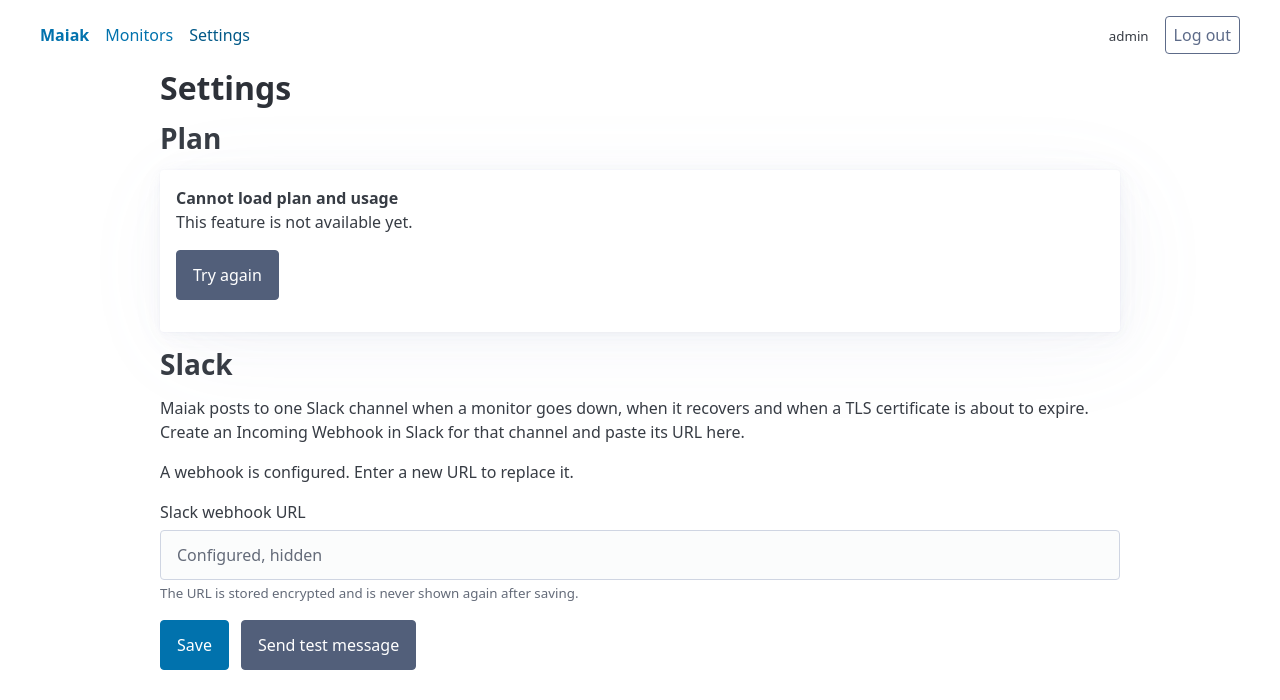
Scenario: auth guard › logs out and returns to login
Click the button "Log out".
click(1202, 35)  # box [1165, 16, 1240, 54]
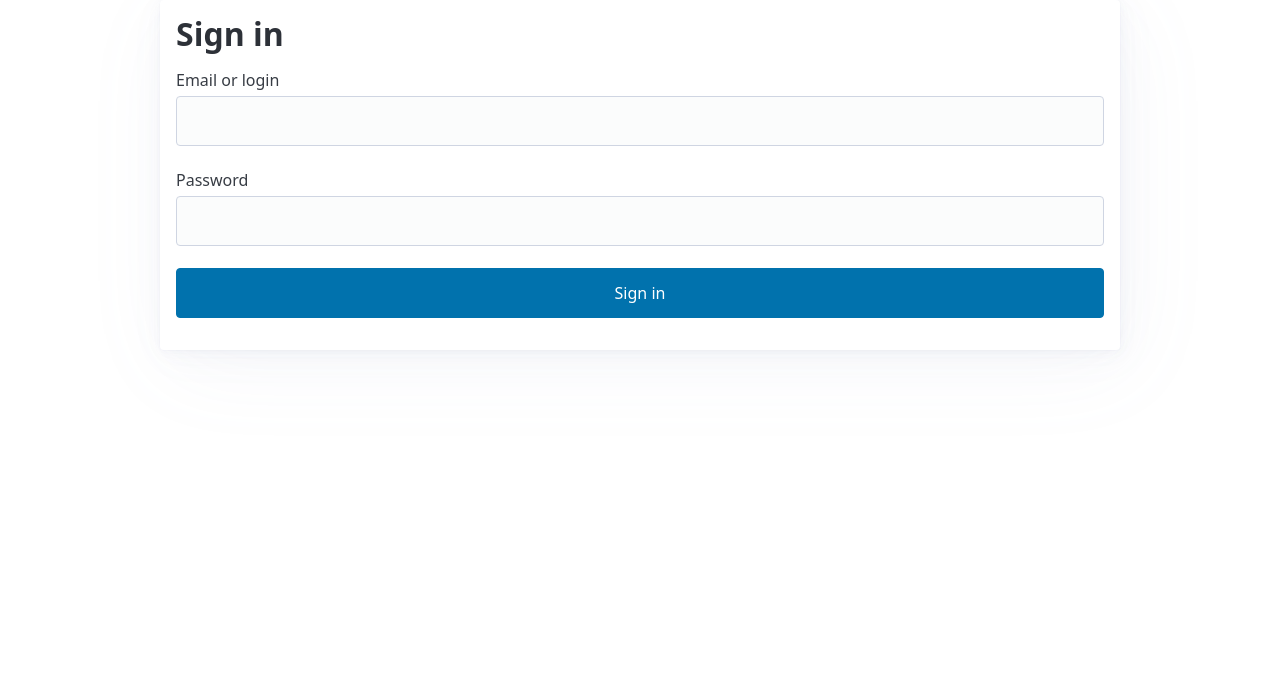
Expected: the heading "Sign in" is shown, [176, 12, 284, 55]
